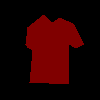abbigliamento_uomo: (25, 14, 84, 84)
